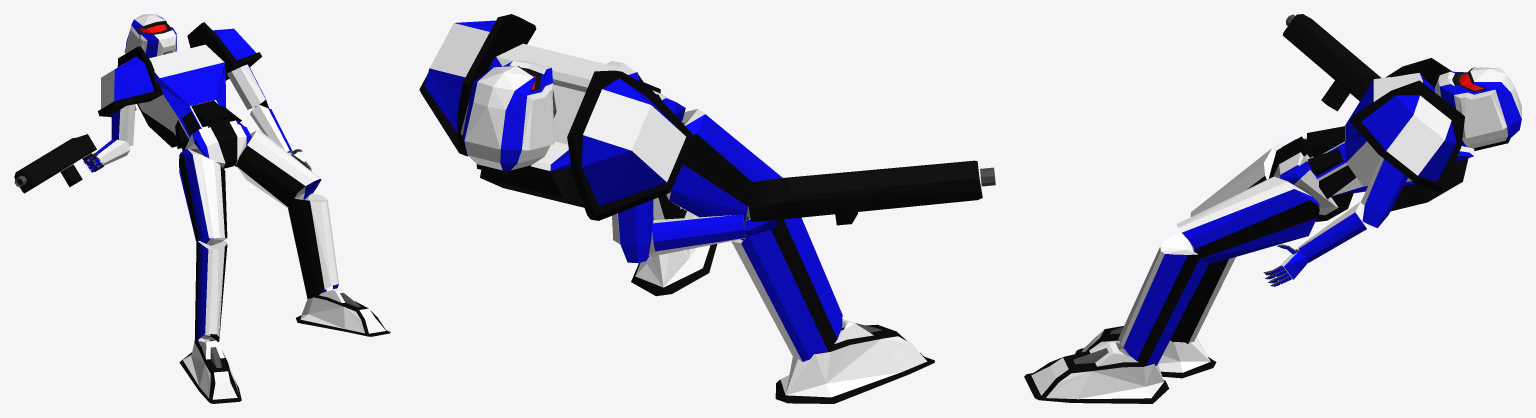
File: robots_000003.obj
3 views of the same model, side by side, from view 1: azimuth 30°, elevation 25°; view 2: azimuth 150°, elevation 25°; view 3: azimuth 270°, elevation 25° (orthographic). The views are drawn at different scales.
Parts seen in each view (by area): view 1: Chest_plate_Cube.004, R_Shin.002_Cube.029, R_Thigh.002_Cube.027, R_Thigh_Cube.005, R_Shin_Cube.007, Cube.002_Cube.059, R_Foot.002_Cube.035, R_Foot_Cube, Cube_Cube.001, Pelvis_Cube.006, Cube_Cube.021, Head_base_Cube.022 (+4 smaller); view 2: Cube.002_Cube.059, Cube_Cube.001, R_Shin_Cube.007, Head_base_Cube.022, R_Foot_Cube, Chest_plate_Cube.004, R_Thigh_Cube.005, Cube_Cube.021, R_Forearm_Cube.008, R_Foot.002_Cube.035, R_Arm_Cube.002, R_Shin.002_Cube.029; view 3: Cube_Cube.021, R_Thigh.002_Cube.027, Chest_plate_Cube.004, R_Foot.002_Cube.035, R_Shin.002_Cube.029, Head_base_Cube.022, Cube_Cube.001, Pelvis_Cube.006, R_Foot_Cube, R_Shin_Cube.007, L_Arm_Cube.014, L_Forearm_Cube.020 (+3 smaller).
Part boxes in pixels (x1=…): Chest_plate_Cube.004: x1=137, y1=44, x2=243, y2=148; R_Shin.002_Cube.029: x1=288, y1=193, x2=338, y2=298; R_Thigh.002_Cube.027: x1=236, y1=130, x2=321, y2=208; R_Thigh_Cube.005: x1=179, y1=148, x2=227, y2=245; R_Shin_Cube.007: x1=194, y1=240, x2=227, y2=341; Cube.002_Cube.059: x1=98, y1=46, x2=162, y2=117; R_Foot.002_Cube.035: x1=296, y1=288, x2=390, y2=336; R_Foot_Cube: x1=179, y1=335, x2=241, y2=403; Cube_Cube.001: x1=14, y1=134, x2=103, y2=193; Pelvis_Cube.006: x1=182, y1=118, x2=251, y2=168; Cube_Cube.021: x1=187, y1=22, x2=261, y2=80; Head_base_Cube.022: x1=124, y1=14, x2=177, y2=58; Cube.002_Cube.059: x1=567, y1=70, x2=694, y2=220; Cube_Cube.001: x1=747, y1=160, x2=995, y2=225; R_Shin_Cube.007: x1=731, y1=217, x2=842, y2=361; Head_base_Cube.022: x1=460, y1=60, x2=554, y2=175; R_Foot_Cube: x1=775, y1=319, x2=934, y2=403; Chest_plate_Cube.004: x1=480, y1=43, x2=661, y2=207; R_Thigh_Cube.005: x1=666, y1=109, x2=783, y2=240; Cube_Cube.021: x1=419, y1=14, x2=536, y2=156; R_Forearm_Cube.008: x1=648, y1=214, x2=745, y2=256; R_Foot.002_Cube.035: x1=631, y1=207, x2=717, y2=296; R_Arm_Cube.002: x1=612, y1=199, x2=653, y2=262; R_Shin.002_Cube.029: x1=653, y1=194, x2=682, y2=219; Cube_Cube.021: x1=1350, y1=80, x2=1464, y2=191; R_Thigh.002_Cube.027: x1=1176, y1=176, x2=1319, y2=264; Chest_plate_Cube.004: x1=1307, y1=73, x2=1474, y2=211; R_Foot.002_Cube.035: x1=1024, y1=342, x2=1169, y2=403; R_Shin.002_Cube.029: x1=1118, y1=233, x2=1208, y2=365; Head_base_Cube.022: x1=1435, y1=67, x2=1521, y2=150; Cube_Cube.001: x1=1282, y1=14, x2=1380, y2=111; Pelvis_Cube.006: x1=1269, y1=136, x2=1354, y2=221; R_Foot_Cube: x1=1075, y1=326, x2=1216, y2=378; R_Shin_Cube.007: x1=1170, y1=257, x2=1235, y2=343; L_Arm_Cube.014: x1=1360, y1=157, x2=1407, y2=227; L_Forearm_Cube.020: x1=1298, y1=201, x2=1371, y2=262.
Bounding box in the file's own units: 2.55 × 2.2 × 2.86.
